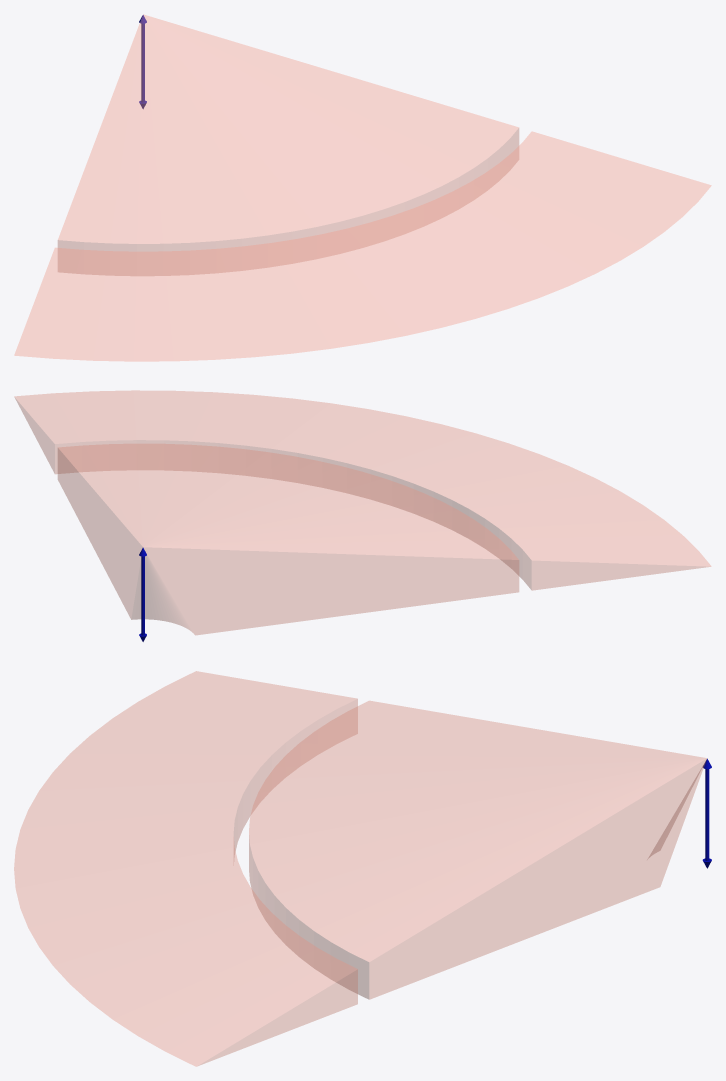
The model's file is area_06.glb.
The picture shows the model from 3 angles, top to bottom: view 1: azimuth 30°, elevation 25°; view 2: azimuth 150°, elevation 25°; view 3: azimuth 270°, elevation 25°; orthographic projection. The views are drawn at different scales.
Visible parts, largest first — view 1: defaultobject; view 2: defaultobject; view 3: defaultobject.
Part boxes in pixels (box(x1,y1,x2,y2)): defaultobject: box(14, 14, 711, 361); defaultobject: box(14, 390, 711, 635); defaultobject: box(14, 671, 706, 1066).
Bounding box in the file's own units: 30.65 × 4 × 22.84.
